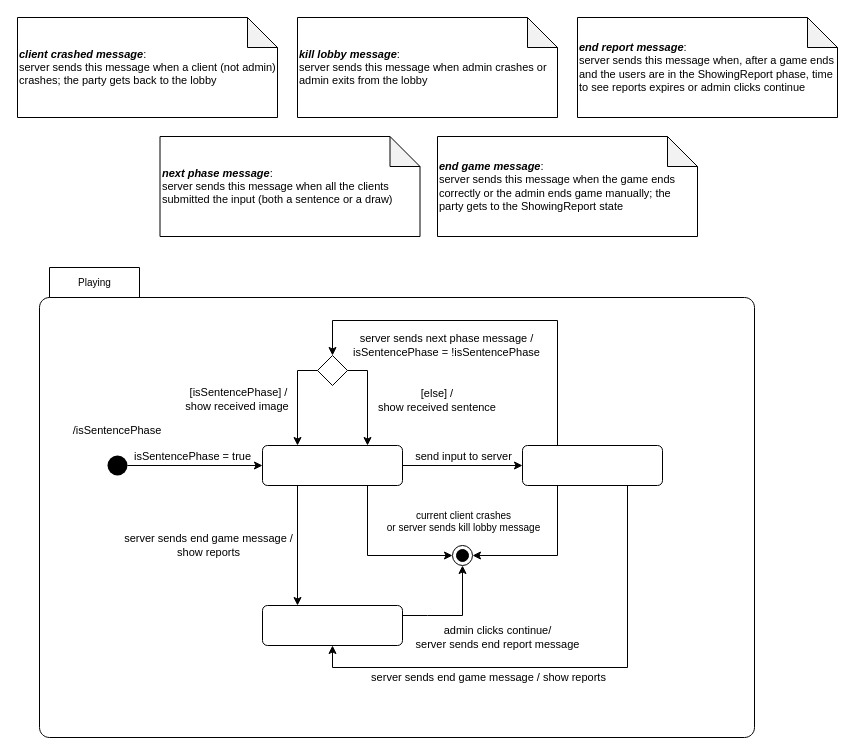
The diagram is 855 pixels wide and 755 high, and some of its shapes have lost their labels. The shapes that lost their labels are listed below. From the top down, each one's centre as x and y in pixels, then its label:
At pixel 332 465: "AwaitInput".
At pixel 592 465: "Submitted".
At pixel 332 625: "ShowingReport".
